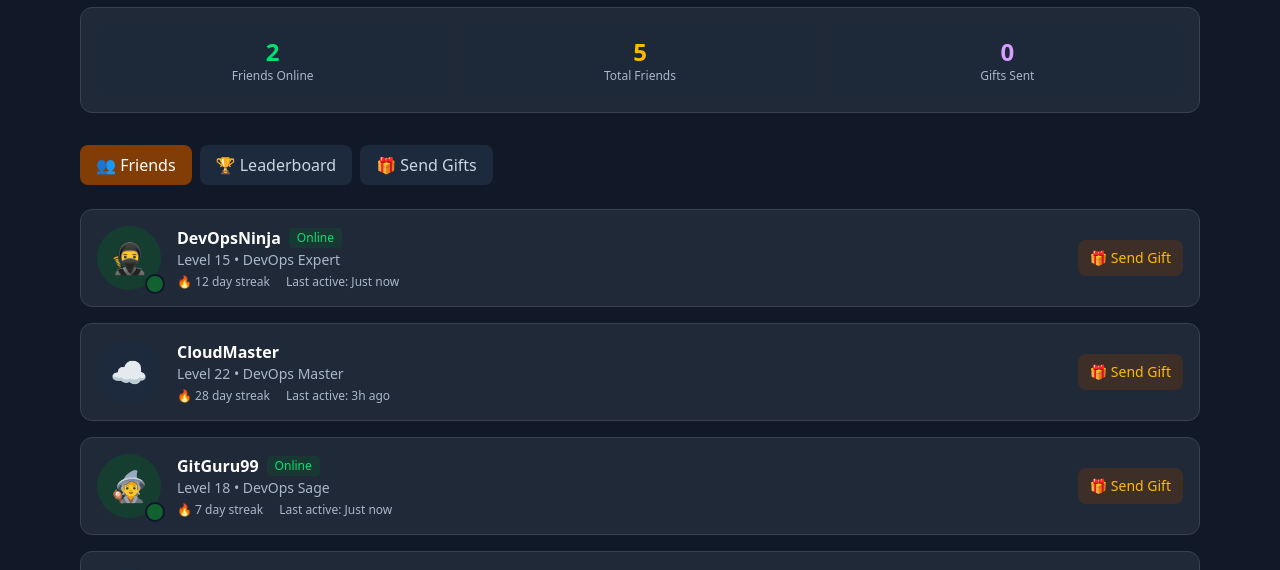
Scenario: SocialPage › sends a gift to a chosen friend and confirms it
Click the button "🎁 Send Gift" in the row of "DevOps Expert" at (1130, 258), box [1078,240,1183,276]
(page scrolled)
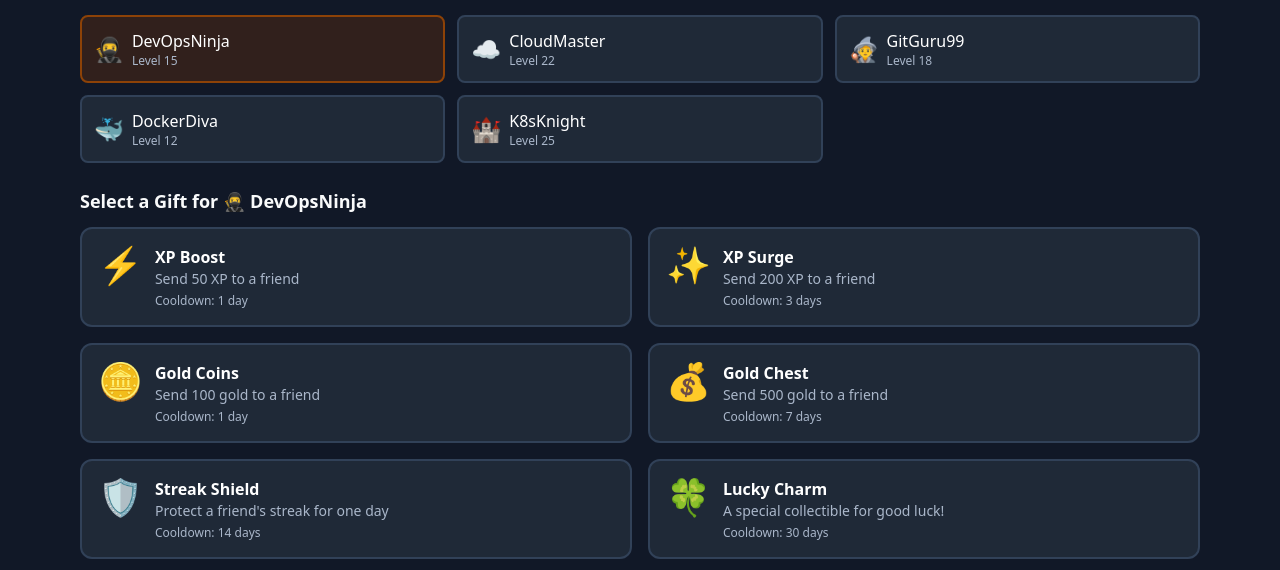
expect the heading "XP Boost" is shown: met, box [155,245,225,269]
expect the heading "XP Surge" is shown: met, box [723,245,794,269]
expect the heading "Gold Coins" is shown: met, box [155,361,239,385]
Click the button "⚡ XP Boost Send 50 XP to a friend Cooldown: 1 day" at (120, 264), box [80,227,632,327]
(page scrolled)
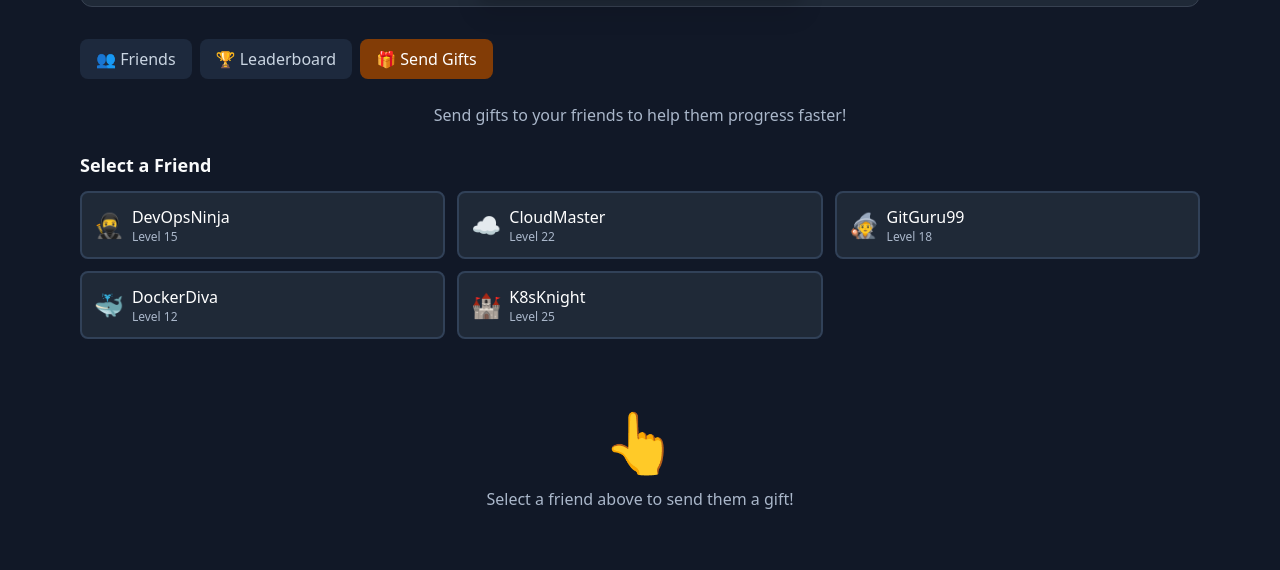
expect the text "Select a friend above to send them a gift!" is shown: met, box [486,488,794,510]
